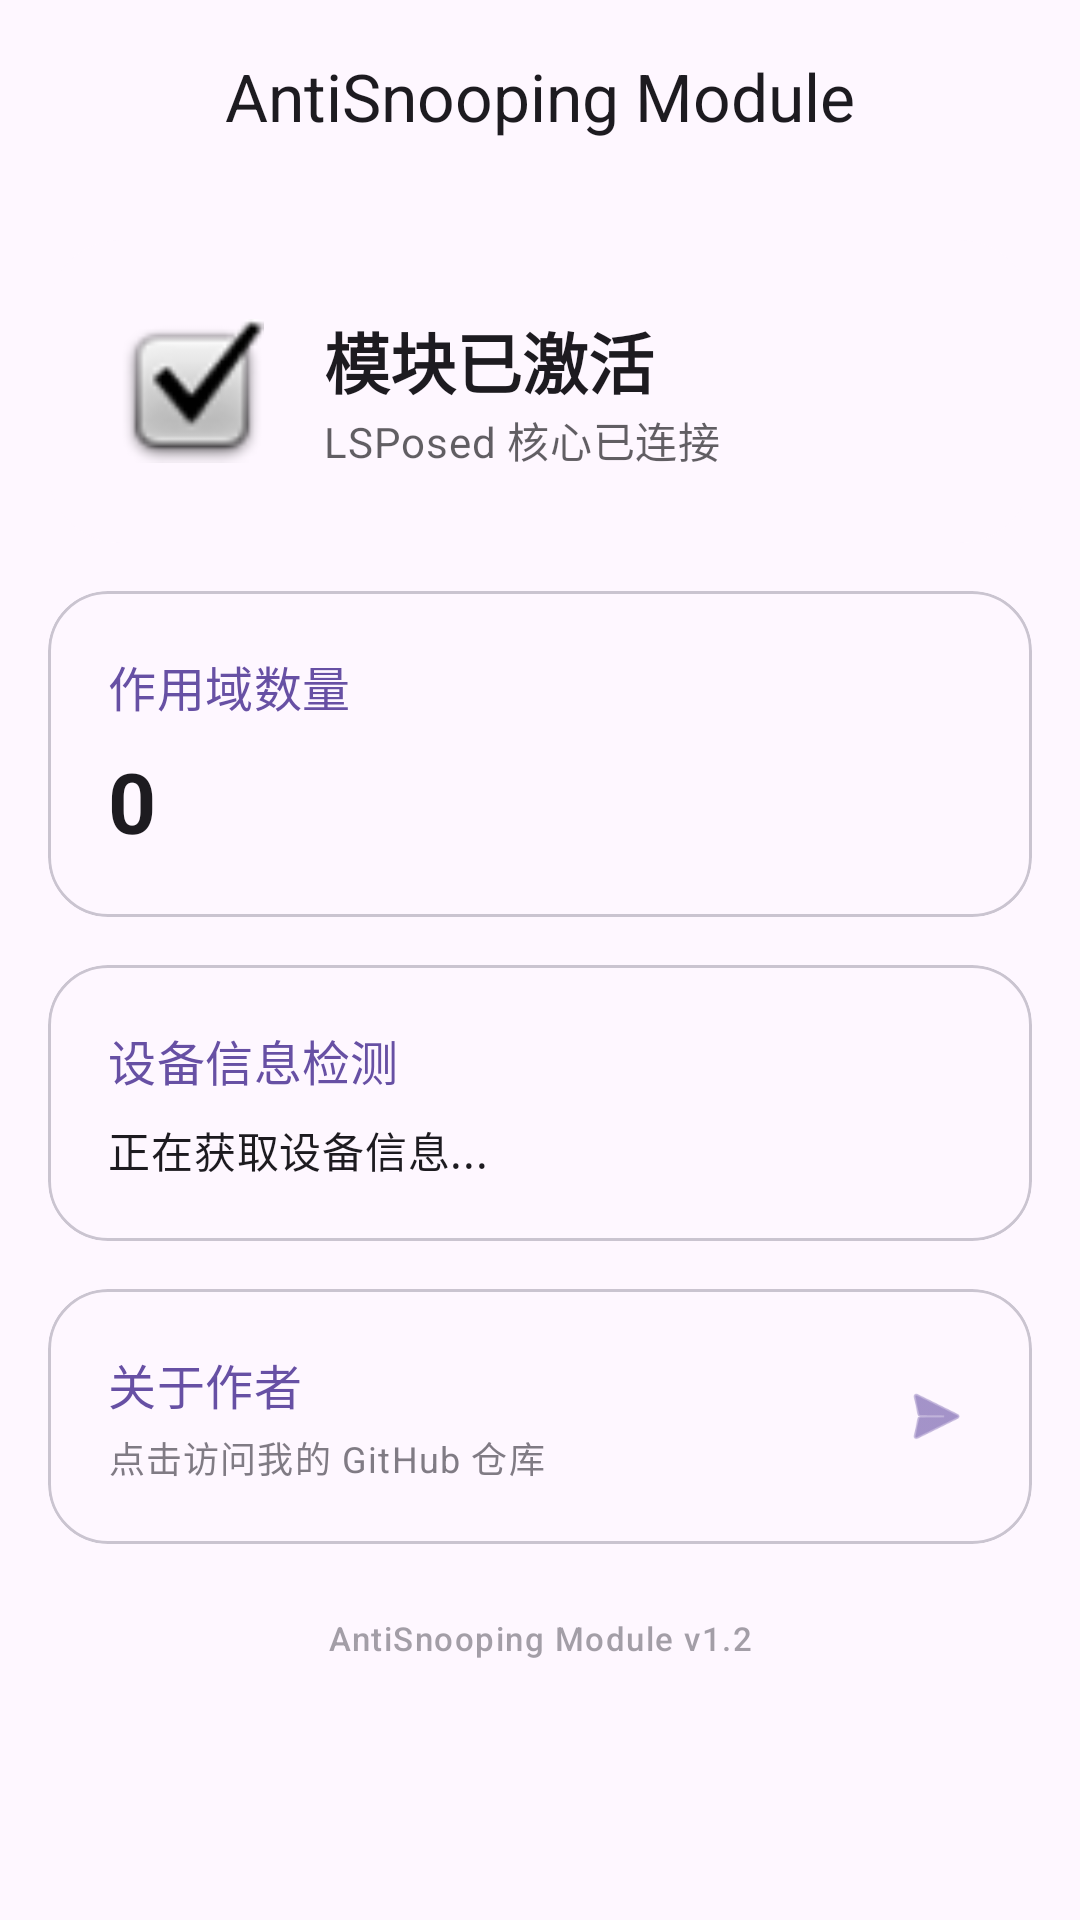

Where to tap for icons on this 1080px×1920px app screen, as point (x, y):
send: point (937, 1416)
